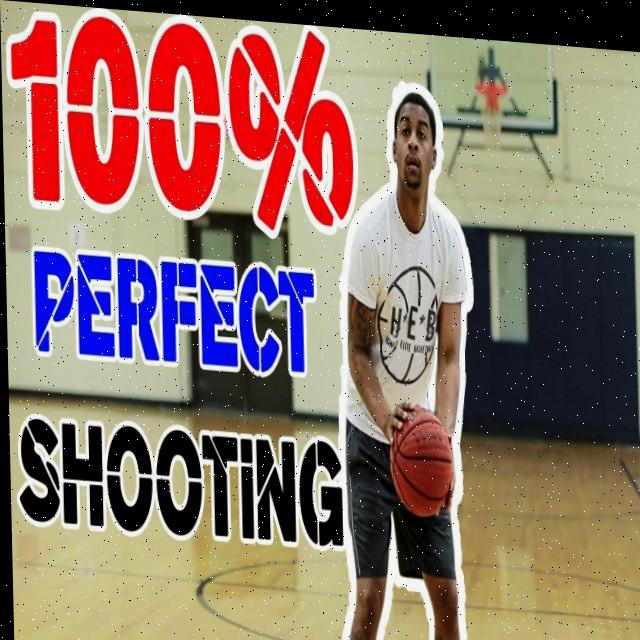basketball: (389, 403, 454, 519)
hoop: (475, 79, 511, 153)
